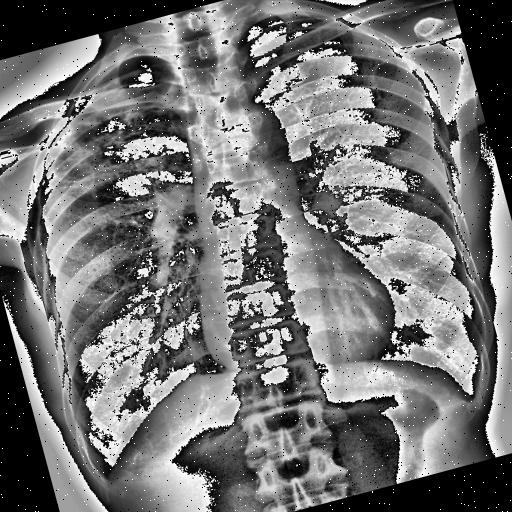13- Pulmonary fibrosis: (14, 62, 186, 200), (32, 80, 178, 204), (68, 108, 124, 138)
7- Lung Opacity: (14, 62, 186, 200)
